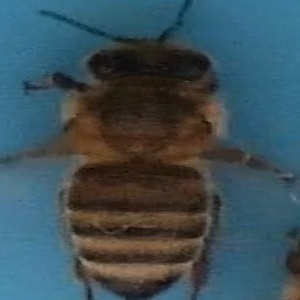bee: (32, 34, 250, 300)
